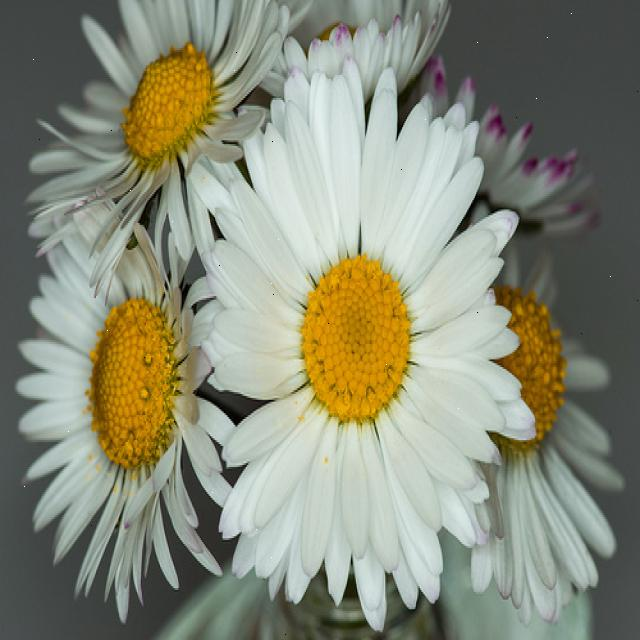Bloomed: (194, 66, 534, 626)
